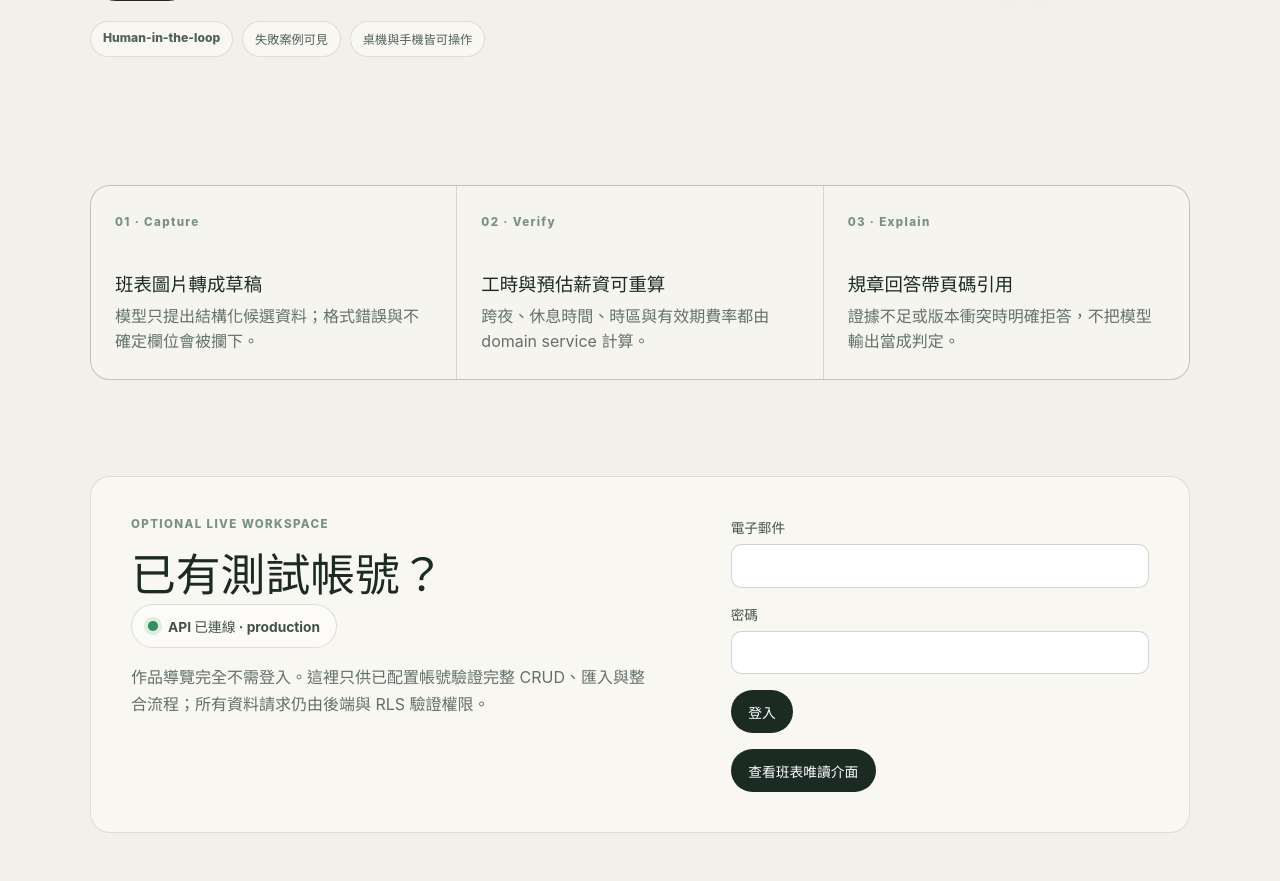
it: App › keeps the synthetic demo available when production auth is configured
(page scrolled)
Click the button "查看班表唯讀介面": (803, 771) [731, 749, 876, 792]
(page scrolled)
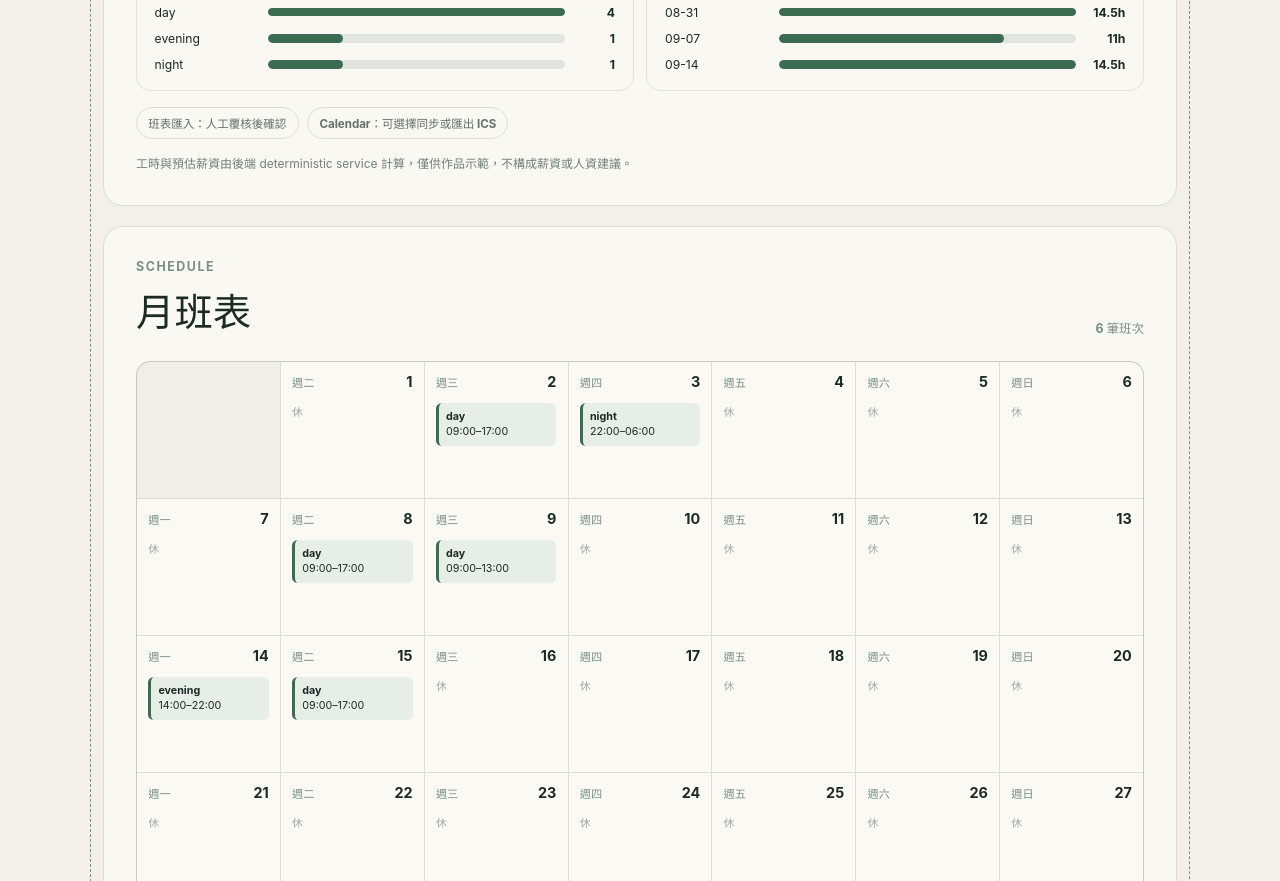
Expected: the text "22:00–06:00" is shown, [590, 425, 655, 438]
